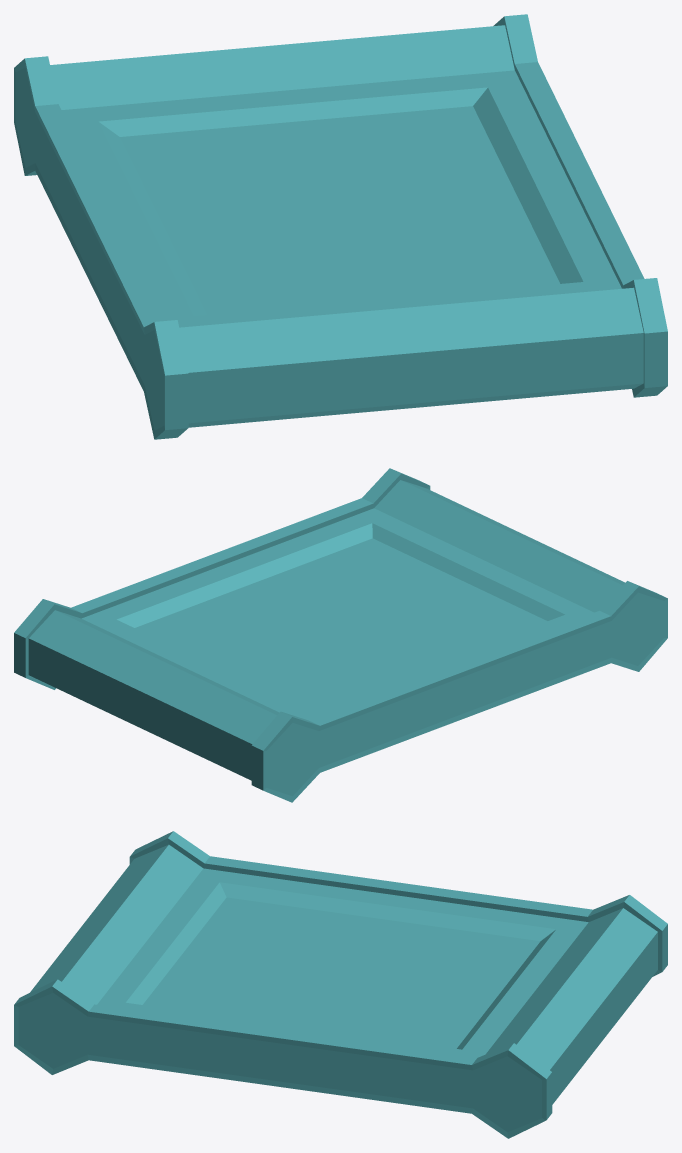
File: Tablet.fbx
3 renders of one model, top to bottom at view 1: azimuth 30°, elevation 25°; view 2: azimuth 150°, elevation 25°; view 3: azimuth 270°, elevation 25°, orthographic. The views are drawn at different scales.
Visible parts, largest first — view 1: pCylinder23; view 2: pCylinder23; view 3: pCylinder23.
Part boxes in pixels (<box>): pCylinder23: <box>14,14,667,439</box>; pCylinder23: <box>14,468,667,802</box>; pCylinder23: <box>14,831,667,1138</box>.
Bounding box in the file's own units: 39.14 × 7.06 × 47.09.
